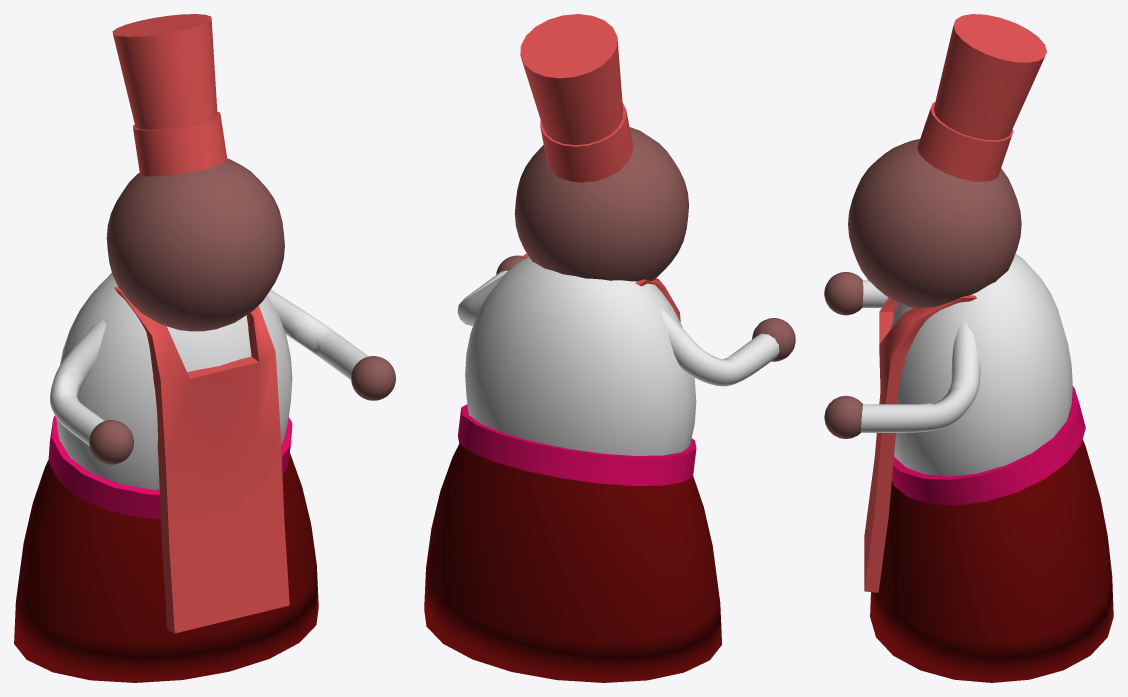
File: redPlayer_2.fbx
The picture shows the model from 3 angles, left to right: view 1: azimuth 30°, elevation 25°; view 2: azimuth 150°, elevation 25°; view 3: azimuth 270°, elevation 25°; orthographic projection. The views are drawn at different scales.
Visible parts, largest first — view 1: skirt, apron, head, chest, pCylinder1, arm (×2), pCylinder2, belt, pSphere1 (×2); view 2: skirt, chest, head, pCylinder1, belt, arm (×2), pCylinder2, pSphere1; view 3: skirt, chest, head, pCylinder1, apron, belt, arm (×2), pCylinder2, pSphere1 (×2).
Part boxes in pixels (<box>): skirt: <box>14,452,318,682</box>; apron: <box>114,287,289,633</box>; head: <box>106,158,284,331</box>; chest: <box>56,273,292,489</box>; pCylinder1: <box>112,14,217,129</box>; arm (×2): <box>50,290,368,445</box>; pCylinder2: <box>132,111,227,176</box>; belt: <box>48,415,292,518</box>; pSphere1 (×2): <box>89,356,395,464</box>; skirt: <box>424,444,721,682</box>; chest: <box>465,256,696,455</box>; head: <box>514,127,688,281</box>; pCylinder1: <box>520,14,623,145</box>; belt: <box>458,404,696,485</box>; arm (×2): <box>457,270,779,386</box>; pCylinder2: <box>540,103,632,182</box>; pSphere1: <box>752,318,795,361</box>; skirt: <box>870,439,1113,682</box>; chest: <box>890,253,1072,476</box>; head: <box>848,139,1021,308</box>; pCylinder1: <box>933,14,1046,140</box>; apron: <box>864,295,976,592</box>; belt: <box>892,386,1085,505</box>; arm (×2): <box>860,280,980,432</box>; pCylinder2: <box>917,102,1013,181</box>; pSphere1 (×2): <box>824,272,863,438</box>.
Size of the model in its own units: 23.24 by 45.1 by 20.
